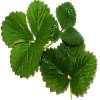Strawberry leaf: (8, 39, 45, 80), (39, 47, 71, 93), (0, 9, 36, 45), (70, 49, 97, 95), (25, 0, 53, 42), (56, 1, 77, 29), (60, 28, 84, 48)
